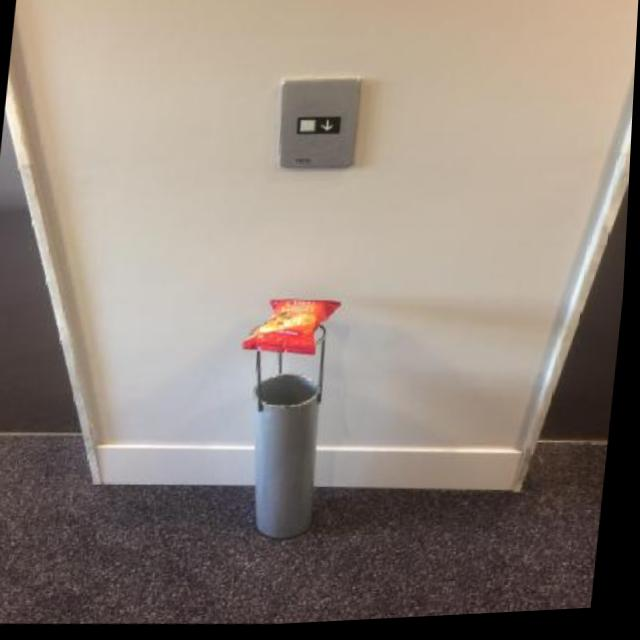plastic: (242, 293, 343, 360)
